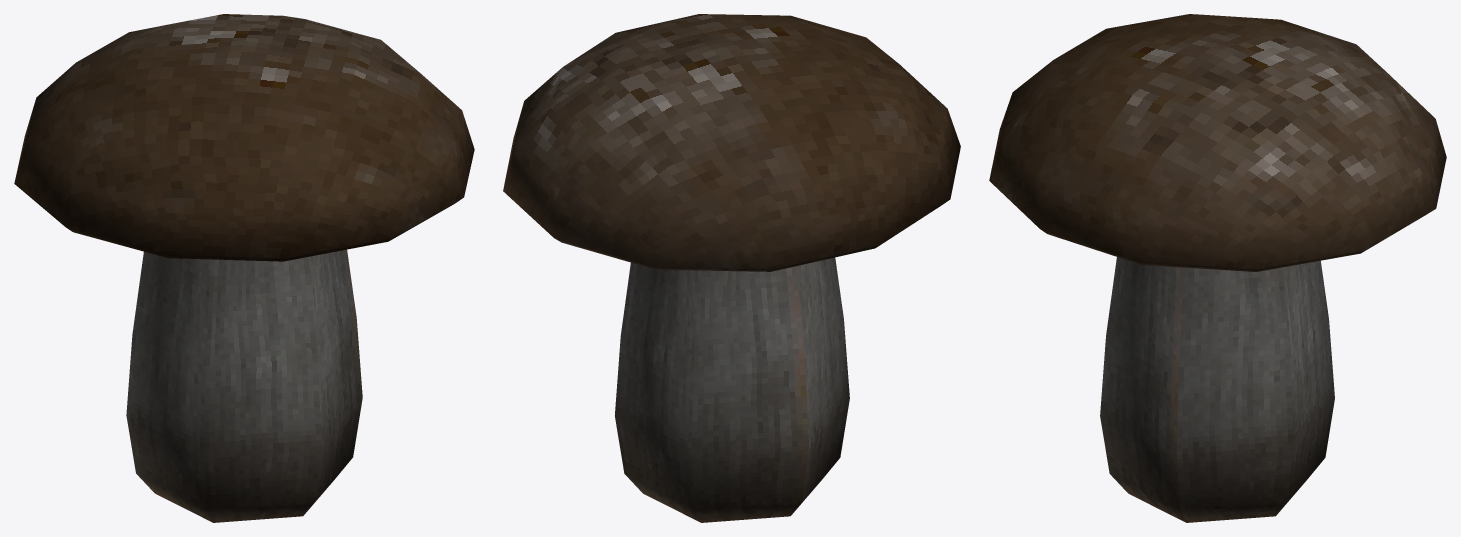
The model's file is mushroom_n_2.glb.
The picture shows the model from 3 angles, left to right: view 1: azimuth 30°, elevation 25°; view 2: azimuth 150°, elevation 25°; view 3: azimuth 270°, elevation 25°; orthographic projection.
Visible parts, largest first — view 1: mushroom_n_2; view 2: mushroom_n_2; view 3: mushroom_n_2.
Part boxes in pixels (x1=…): mushroom_n_2: x1=14, y1=14, x2=474, y2=522; mushroom_n_2: x1=503, y1=14, x2=960, y2=522; mushroom_n_2: x1=989, y1=14, x2=1446, y2=522.
Size of the model in its own units: 0.2729 by 0.288 by 0.2729.
Materials: 1 (1 with a texture image).
